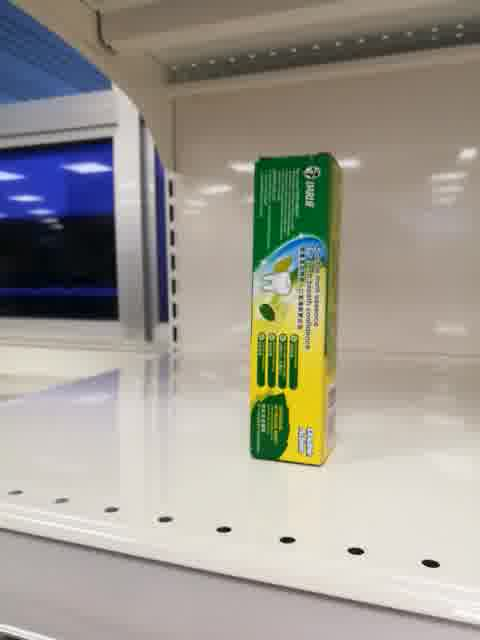toothpaste: (248, 151, 342, 466)
